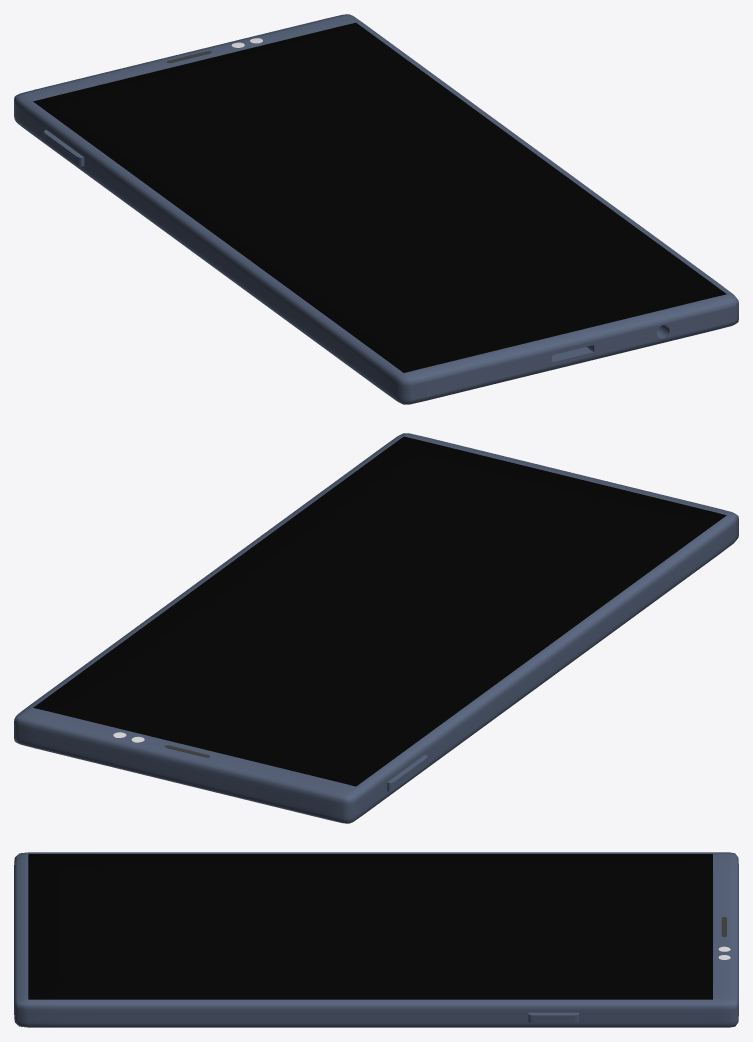
File: phone.fbx
3 renders of one model, top to bottom at view 1: azimuth 30°, elevation 25°; view 2: azimuth 150°, elevation 25°; view 3: azimuth 270°, elevation 25°, orthographic. The views are drawn at different scales.
Parts seen in each view (by area): view 1: Cube.001; view 2: Cube.001; view 3: Cube.001.
Part boxes in pixels (<box>): Cube.001: <box>14,14,738,404</box>; Cube.001: <box>14,433,738,823</box>; Cube.001: <box>14,852,738,1027</box>.
Size of the model in its own units: 206 by 18.95 by 400.
